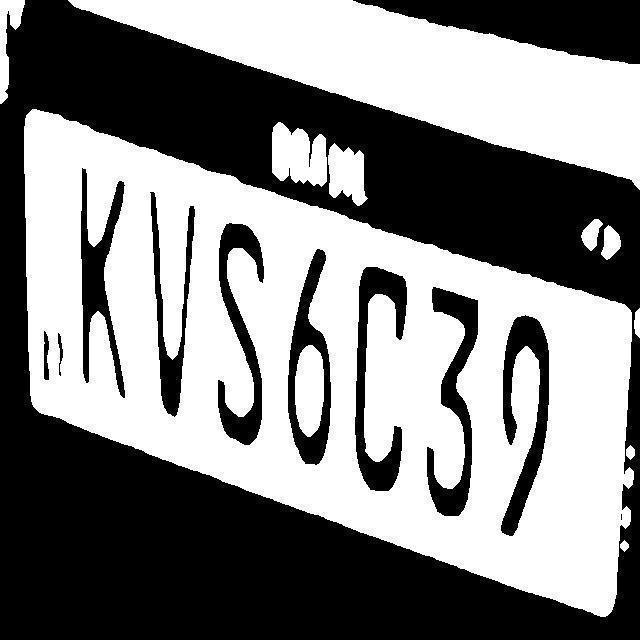3: (410, 283, 490, 532)
6: (274, 228, 346, 481)
9: (489, 310, 558, 544)
c: (345, 256, 419, 500)
k: (67, 165, 134, 416)
s: (202, 215, 272, 452)
v: (134, 192, 198, 432)
